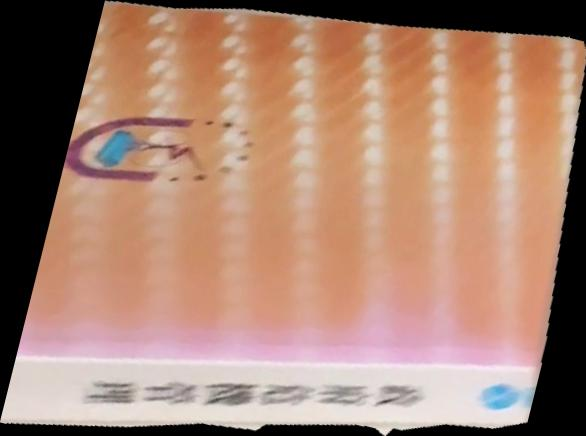flat: (1, 1, 586, 436)
